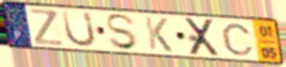C: (220, 22, 256, 57)
K: (143, 15, 174, 54)
S: (104, 13, 140, 52)
U: (60, 9, 98, 49)
X: (183, 17, 222, 57)
Z: (28, 8, 67, 48)
